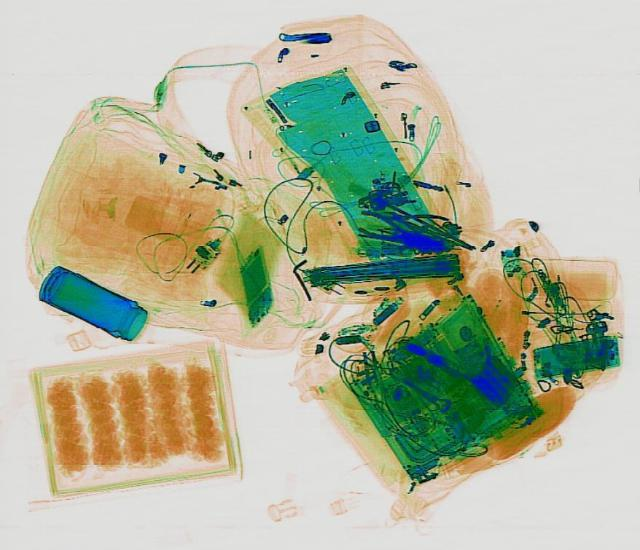Pliers: (350, 205, 430, 250), (374, 199, 448, 241)
